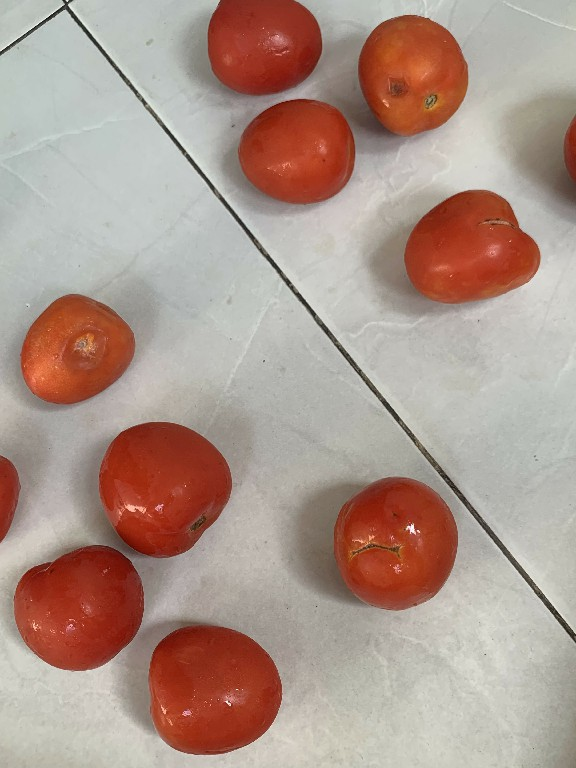NG: (402, 180, 550, 309), (332, 473, 460, 615), (14, 287, 137, 414), (353, 13, 466, 130)
OK: (90, 417, 235, 559), (139, 620, 284, 755), (11, 540, 140, 684), (198, 0, 328, 95), (234, 95, 355, 195)
